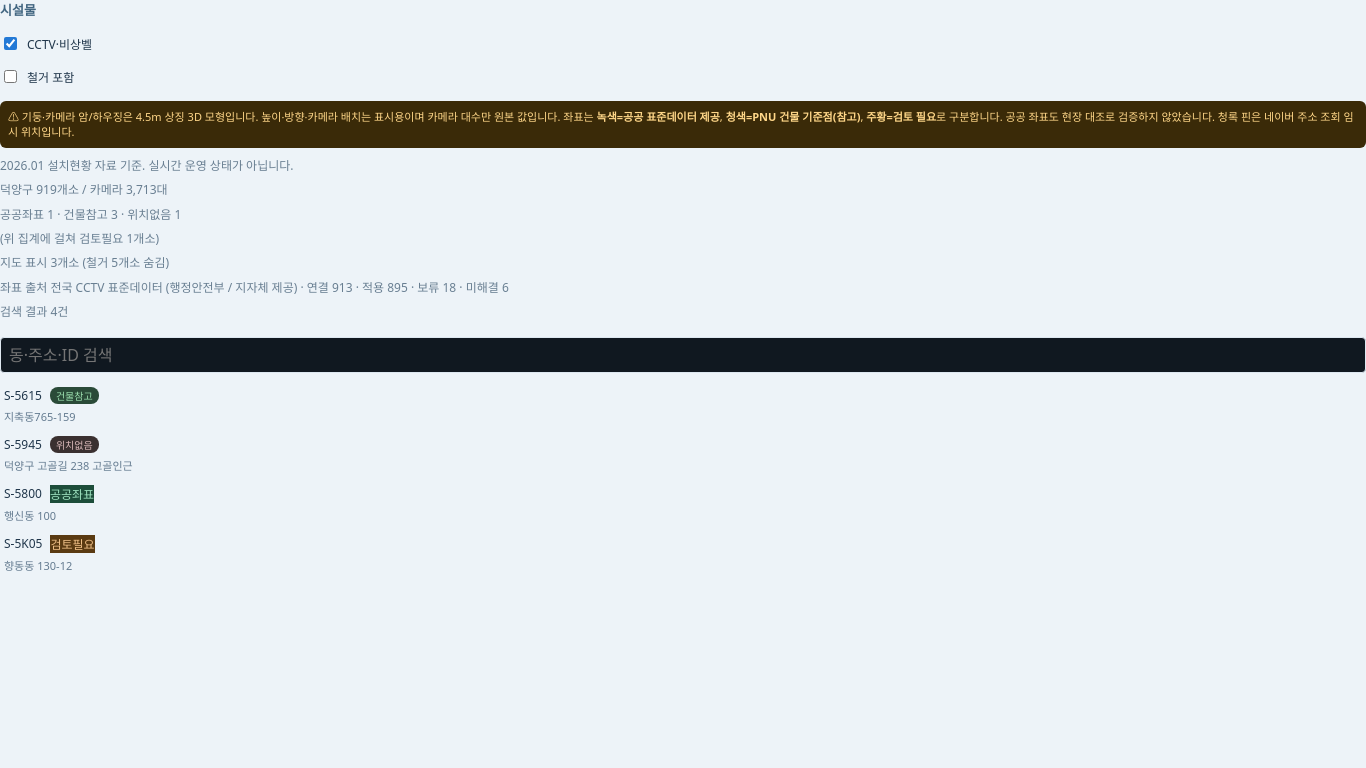
Test: FacilitiesPanel › explains why a held site kept the building reference point
Step 1. Click the button "S-5K05 검토필요 향동동 130-12" → (23, 543), box [0,528,1365,578]
(page scrolled)
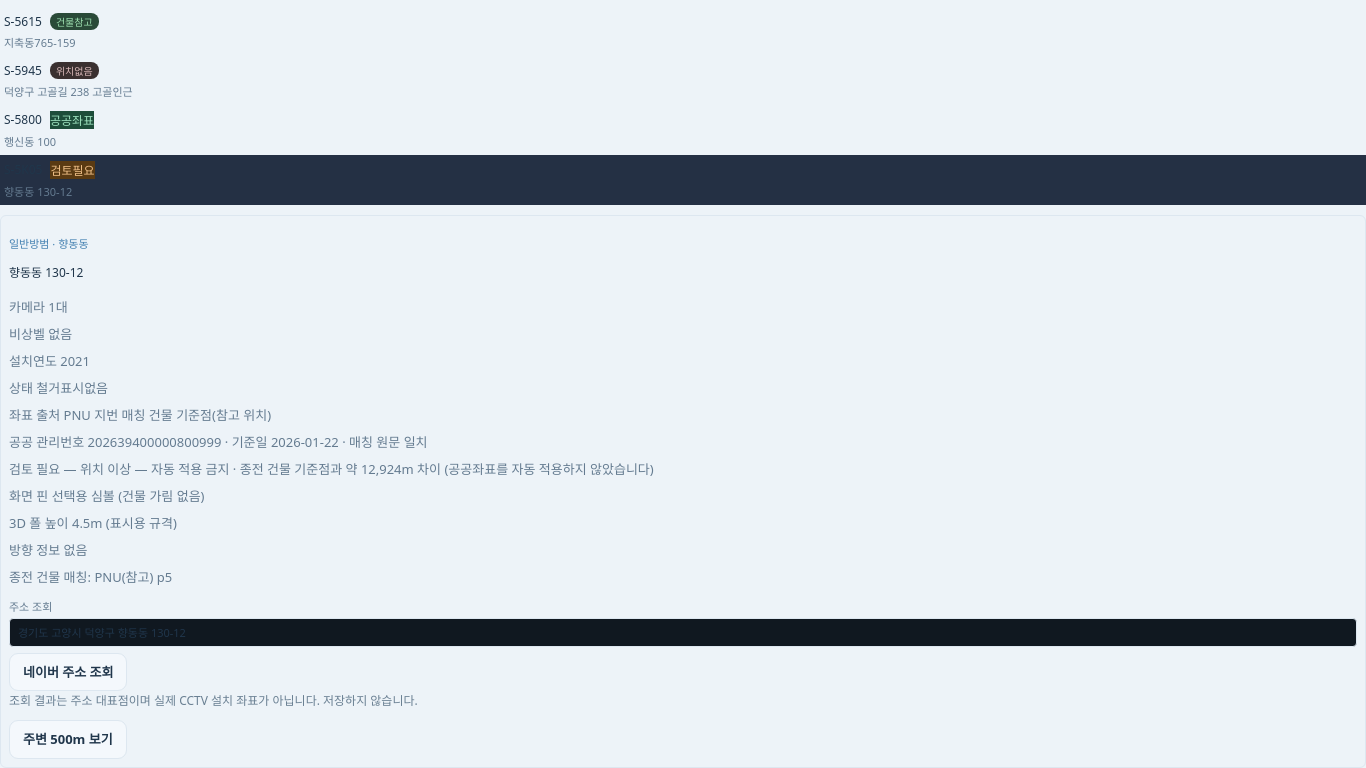
Expected: the list item with test id "cctv-review" shows "위치 이상 — 자동 적용 금지", [80,460,441,478]
Expected: the list item with test id "cctv-review" shows "약 12,924m 차이", [80,460,441,478]
Expected: the list item with test id "cctv-review" shows "공공좌표를 자동 적용하지 않았습니다", [441,460,654,478]
